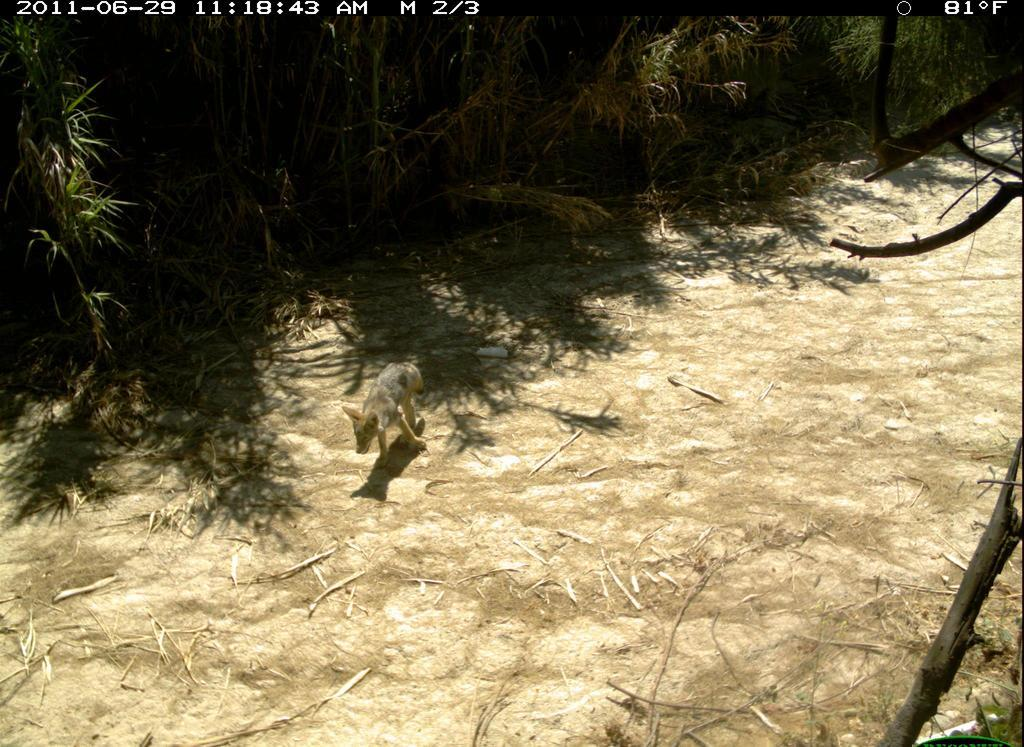coyote: (337, 355, 452, 472)
